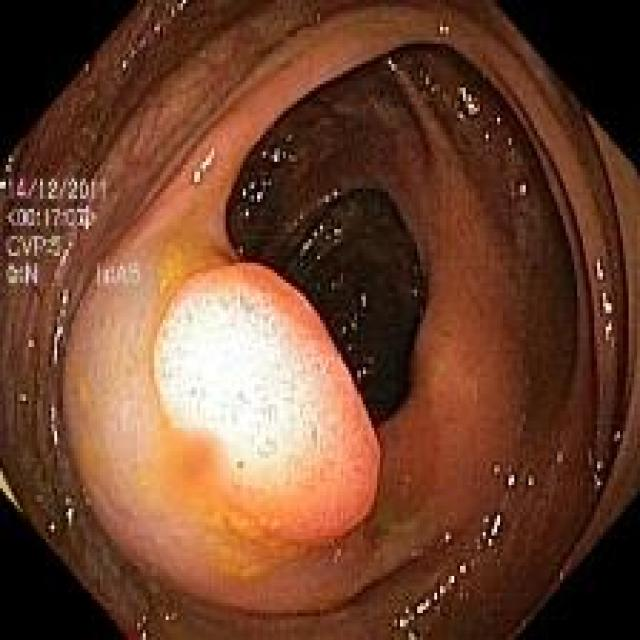Polyps: (154, 264, 379, 540)
